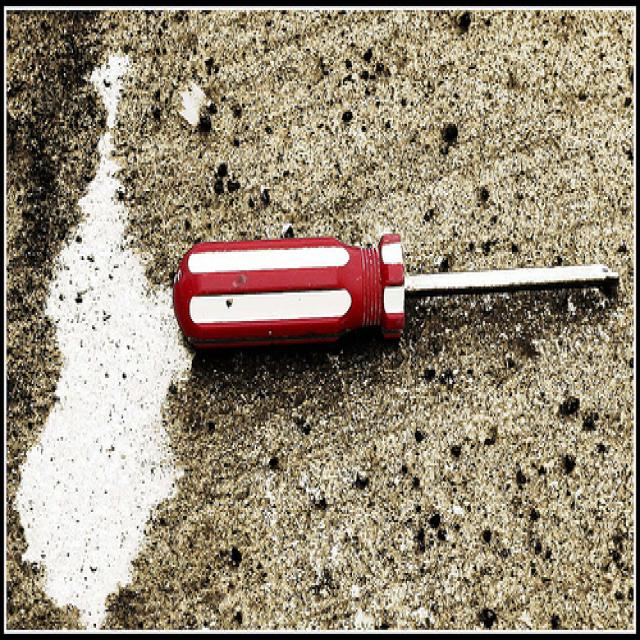Screwdriver: (174, 234, 619, 346)
